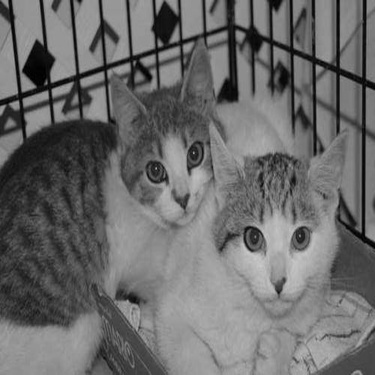cat: (4, 32, 216, 368), (141, 98, 348, 367)
